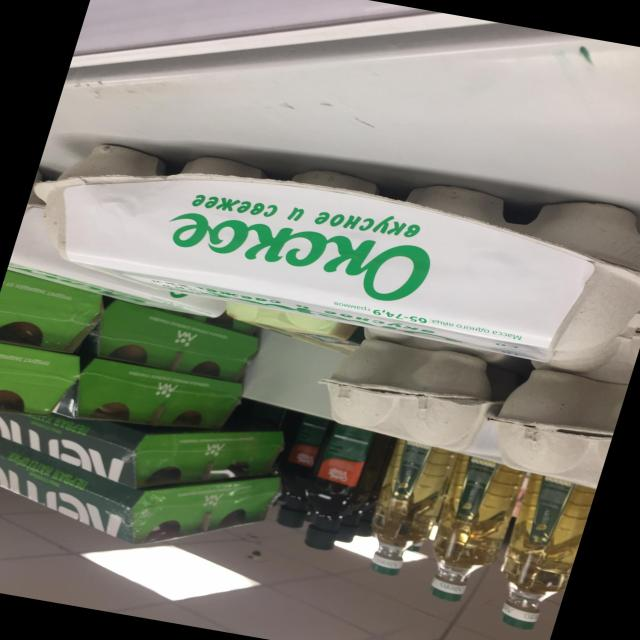organic waste: (8, 107, 640, 377), (300, 330, 500, 459), (476, 466, 600, 640), (470, 361, 629, 488), (408, 451, 525, 620), (350, 435, 454, 593), (291, 422, 391, 563), (260, 413, 345, 540)
